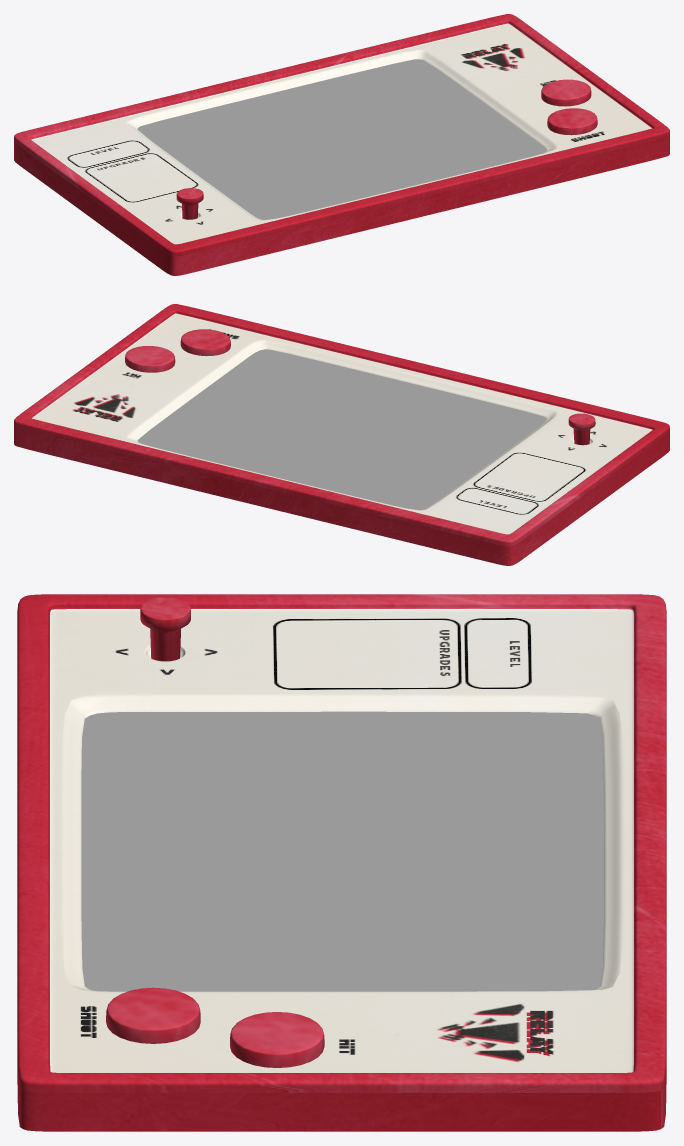
The model's file is groupedetout.fbx.
3 views of the same model, one above another, from view 1: azimuth 30°, elevation 25°; view 2: azimuth 150°, elevation 25°; view 3: azimuth 270°, elevation 25° (orthographic). The views are drawn at different scales.
Visible parts, largest first — view 1: polySurface4, pPlane1, polySurface3, polySurface1, polySurface2; view 2: polySurface4, pPlane1, polySurface1, polySurface3, polySurface2; view 3: polySurface4, pPlane1, polySurface1, polySurface3, polySurface2.
Part boxes in pixels (box(x1,y1,x2,y2)): polySurface4: box(14, 14, 669, 275); pPlane1: box(137, 59, 545, 219); polySurface3: box(541, 79, 591, 106); polySurface1: box(547, 108, 597, 135); polySurface2: box(176, 188, 203, 219); polySurface4: box(14, 304, 669, 565); pPlane1: box(137, 349, 545, 510); polySurface1: box(180, 329, 230, 356); polySurface3: box(125, 346, 175, 372); polySurface2: box(568, 413, 595, 445); polySurface4: box(17, 594, 666, 1131); pPlane1: box(81, 711, 603, 991); polySurface1: box(106, 987, 200, 1043); polySurface3: box(230, 1012, 324, 1067); polySurface2: box(140, 597, 190, 661).
Size of the model in its own units: 16.07 by 1.35 by 9.01.
